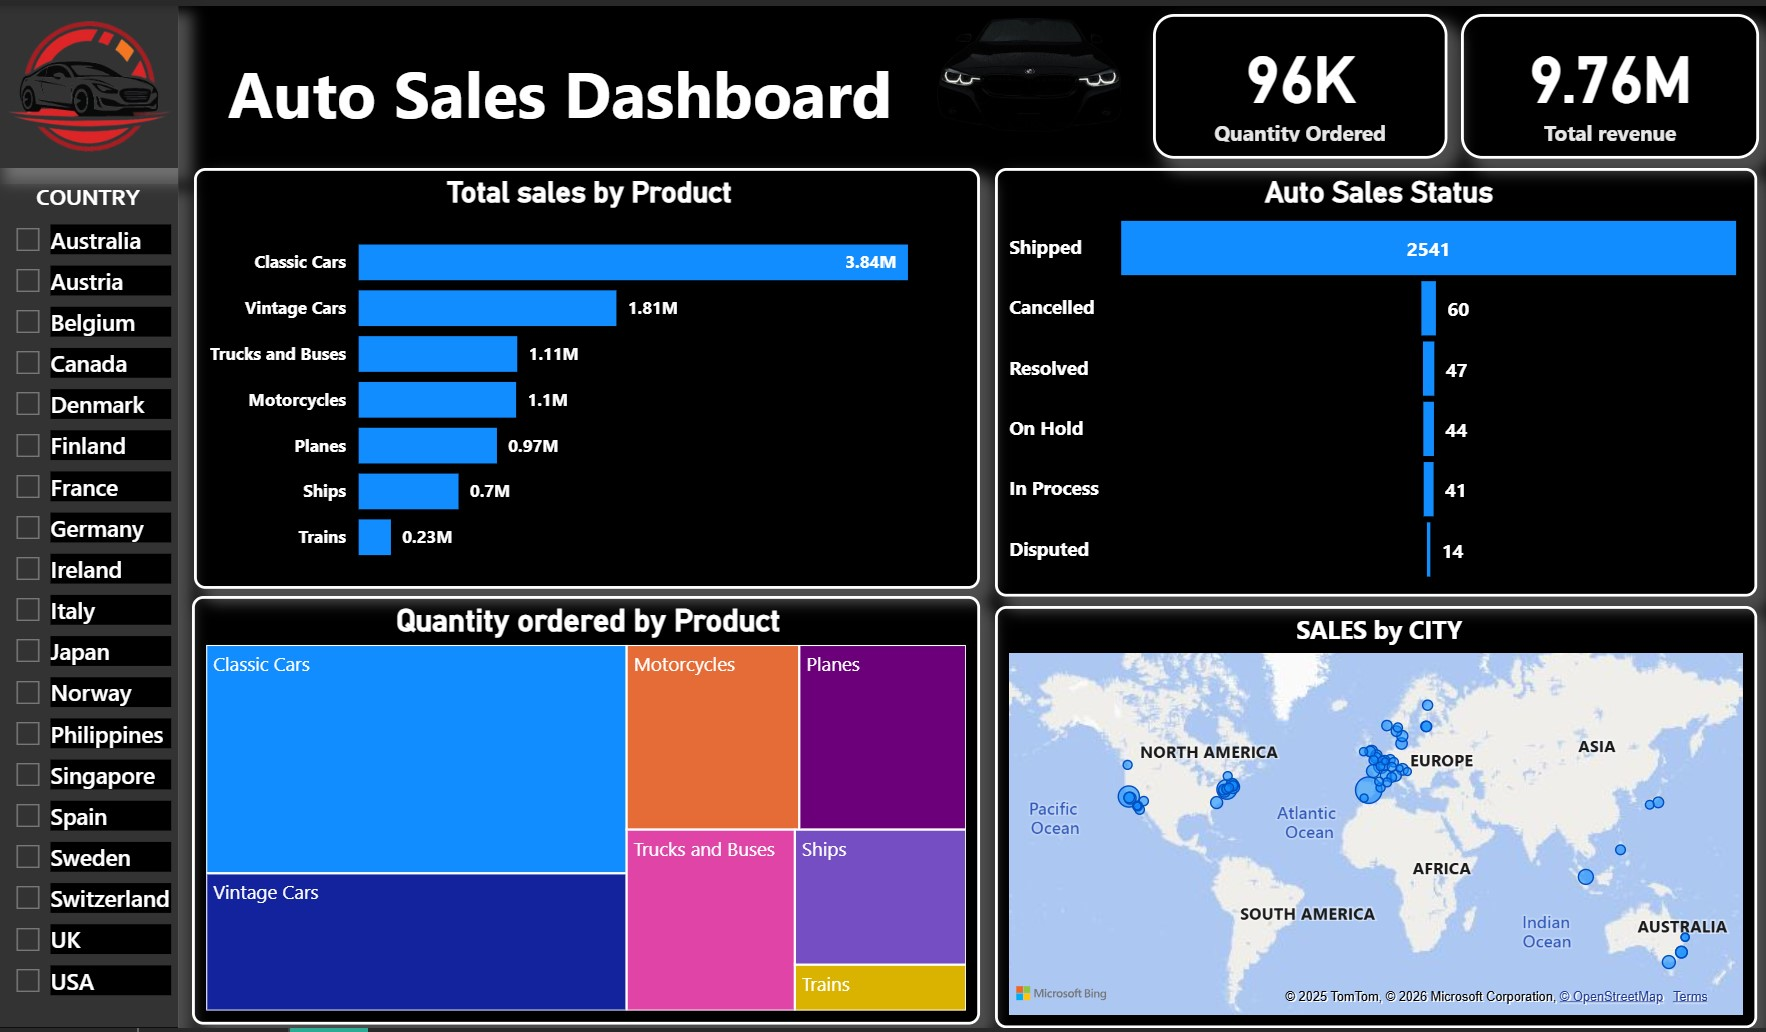

The page's visual inventory and layout, read from the dashboard file:
{"tool":"powerbi","page":{"name":"Dashboard","canvas":[1280,720],"ordinal":0},"visuals":[{"type":"barChart","title":"Total sales by Product","fields":{"Category":["Auto Sales data.PRODUCTLINE"],"Y":["Sum(Auto Sales data.SALES)"]},"box":[138.7,113.8,553.2,296.3],"z":0},{"type":"treemap","title":"Quantity ordered by Product","fields":{"Group":["Auto Sales data.PRODUCTLINE"],"Values":["Sum(Auto Sales data.QUANTITYORDERED)"]},"box":[137.2,416,554.6,302.1],"z":1000},{"type":"shape","box":[0,0,127,719.5],"z":2000},{"type":"shape","box":[1248.5,0,31.7,720],"z":3000},{"type":"actionButton","box":[137.2,17.5,518.1,78.8],"z":4000},{"type":"card","fields":{"Values":["Sum(Auto Sales data.SALES)"]},"box":[1029.6,5.8,210.2,102.2],"z":5000},{"type":"card","fields":{"Values":["Sum(Auto Sales data.QUANTITYORDERED)"]},"box":[813.6,5.8,207.4,102.2],"z":6000},{"type":"map","fields":{"Category":["Auto Sales data.CITY"],"Size":["Sum(Auto Sales data.SALES)"]},"box":[702,423.3,537.1,297.7],"z":7000},{"type":"slicer","title":"COUNTRY","fields":{"Values":["Auto Sales data.COUNTRY"]},"box":[0,125.1,126.8,594.9],"z":8000},{"type":"image","box":[0,0,127,113.8],"z":9000},{"type":"image","box":[655,0,139.8,95.9],"z":10000},{"type":"funnel","title":"Auto Sales Status","fields":{"Category":["Auto Sales data.STATUS"],"Y":["CountNonNull(Auto Sales data.STATUS)"]},"box":[702,113.8,537.1,302.1],"z":11000}]}

Visuals, with their boxes in screenshot pixels (x1, y1, x2, y2):
"Total sales by Product" barChart: x1=200, y1=161, x2=981, y2=578
"Quantity ordered by Product" treemap: x1=198, y1=587, x2=980, y2=1013
shape: x1=5, y1=0, x2=184, y2=1015
actionButton: x1=198, y1=25, x2=929, y2=136
card - Sum(Auto Sales data.SALES): x1=1457, y1=8, x2=1753, y2=152
card - Sum(Auto Sales data.QUANTITYORDERED): x1=1152, y1=8, x2=1445, y2=152
map - Auto Sales data.CITY x Sum(Auto Sales data.SALES): x1=995, y1=597, x2=1752, y2=1017
"COUNTRY" slicer: x1=5, y1=176, x2=183, y2=1016
image: x1=5, y1=0, x2=184, y2=161
image: x1=929, y1=0, x2=1126, y2=135
"Auto Sales Status" funnel: x1=995, y1=161, x2=1752, y2=587
